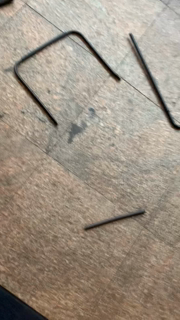C pipe: (13, 30, 124, 132)
i pipe: (82, 209, 148, 234)
